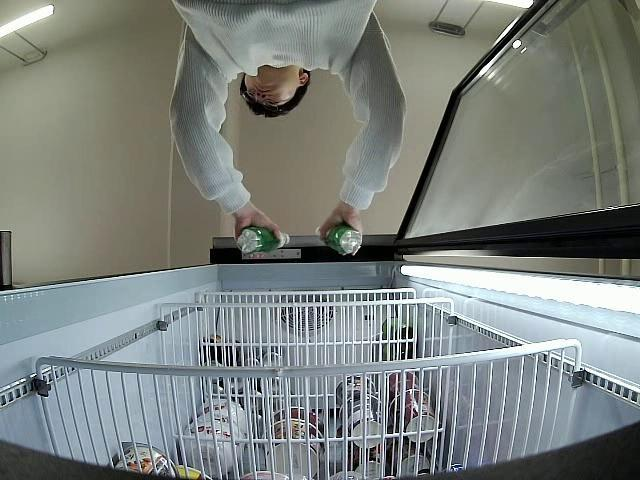18_trevi: (316, 222, 364, 259), (236, 225, 288, 256)
